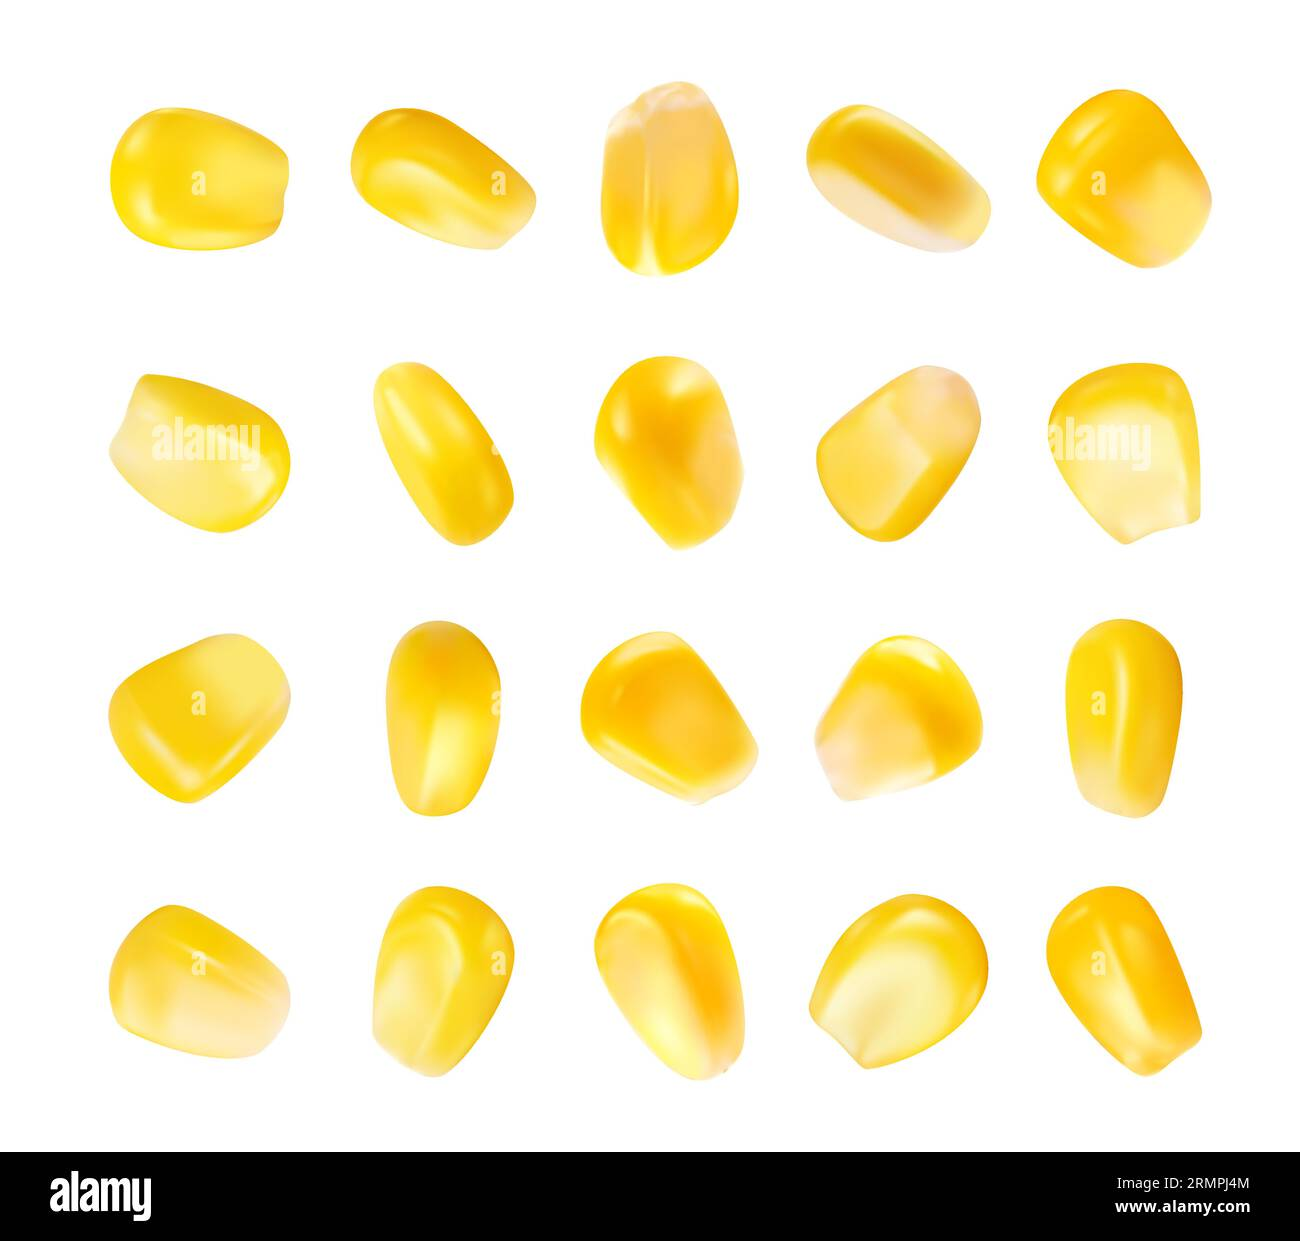corn: (98, 332, 282, 544)
